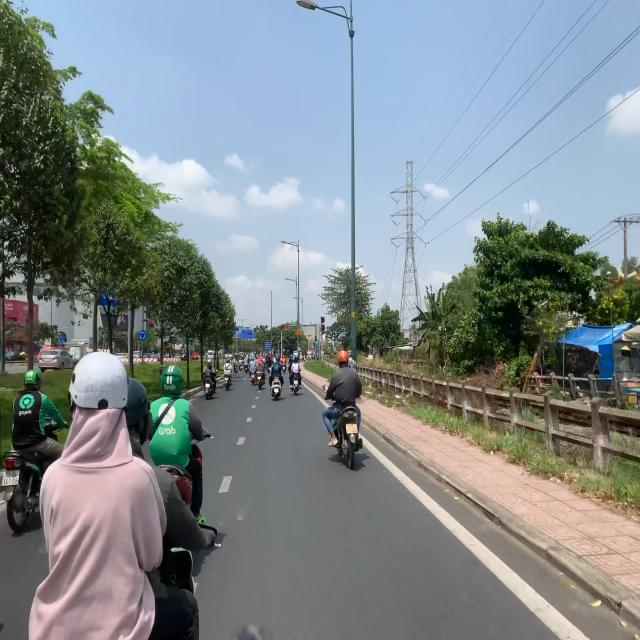Vong xuyen: (139, 331, 146, 340), (59, 336, 64, 343)
